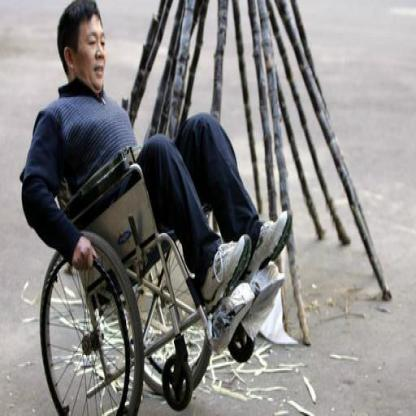wheelchair: (16, 0, 294, 412)
